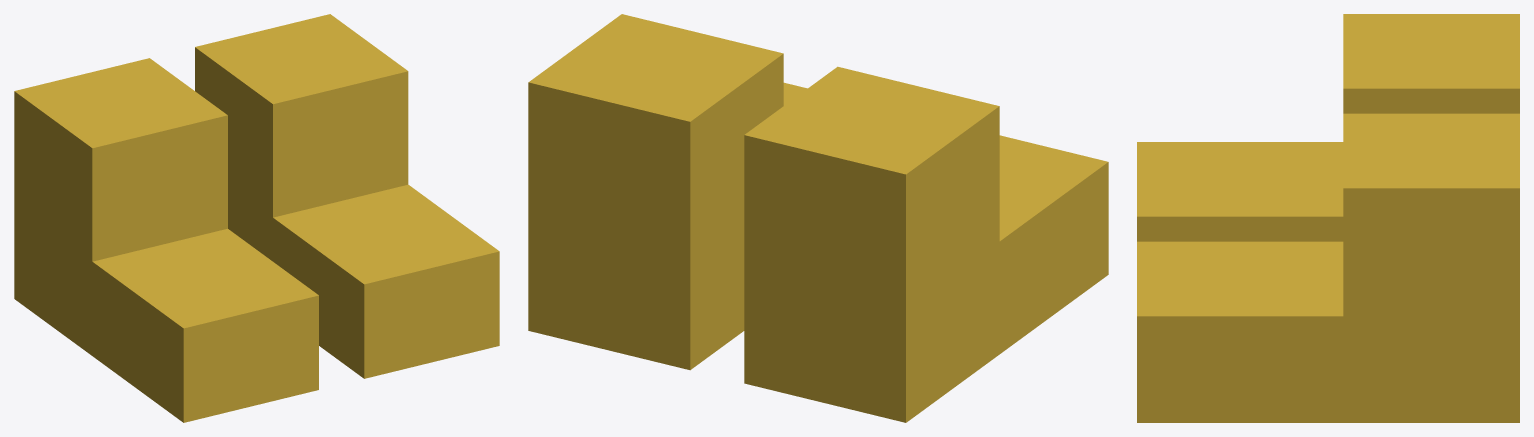
The model's file is gold_boots.glb.
The picture shows the model from 3 angles, left to right: view 1: azimuth 30°, elevation 25°; view 2: azimuth 150°, elevation 25°; view 3: azimuth 270°, elevation 25°; orthographic projection. The views are drawn at different scales.
Parts seen in each view (by area): view 1: ankle0, ankle1, toe0, toe1; view 2: ankle0, ankle1, toe0; view 3: ankle1, toe1, toe0, ankle0.
Part boxes in pixels (x1,y1,x2,y2): ankle0: (14,58,227,355); ankle1: (195,14,408,261); toe0: (92,228,318,422); toe1: (249,184,499,378); ankle0: (744,66,999,422); ankle1: (528,14,783,370); toe0: (971,135,1108,374); ankle1: (1343,113,1519,422); toe1: (1137,241,1396,422); toe0: (1137,142,1343,241); ankle0: (1343,14,1519,113).
Size of the model in its own units: 0.35 by 0.22 by 0.325.
